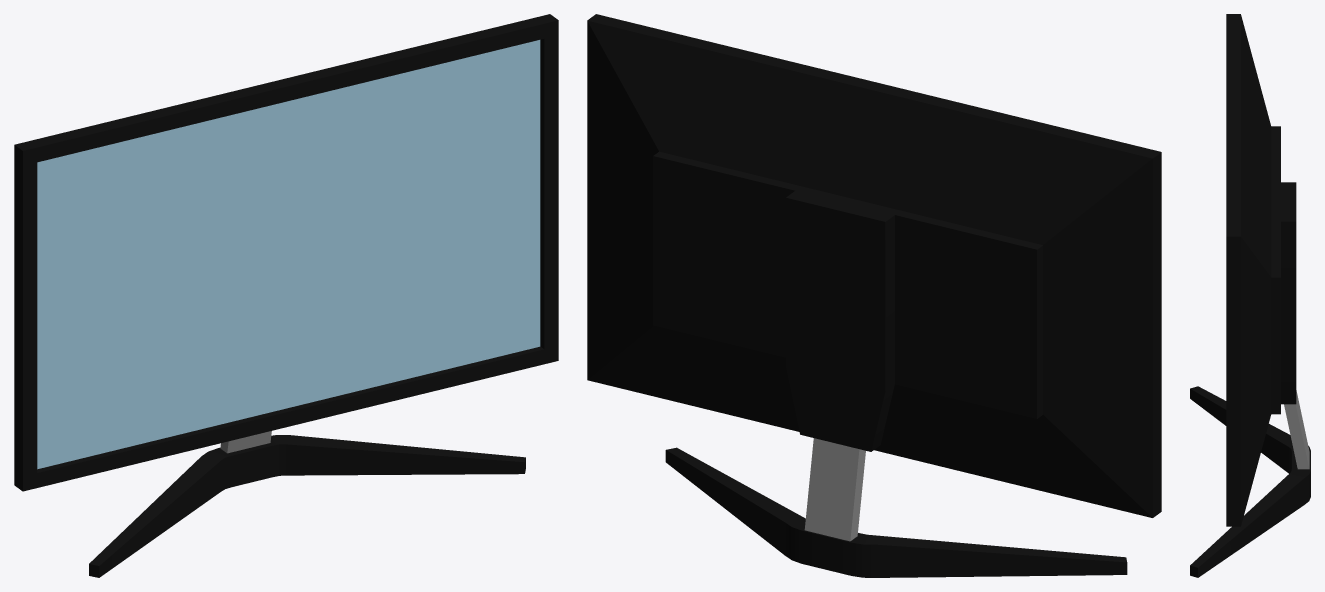
The model's file is EN_Monitor.002_V01.fbx.
3 renders of one model, left to right at view 1: azimuth 30°, elevation 25°; view 2: azimuth 150°, elevation 25°; view 3: azimuth 270°, elevation 25°, orthographic. The views are drawn at different scales.
Parts seen in each view (by area): view 1: GEO_Monitor.002; view 2: GEO_Monitor.002; view 3: GEO_Monitor.002.
Boxes of the visible parts, <box> form: GEO_Monitor.002: <box>14,14,558,577</box>; GEO_Monitor.002: <box>587,14,1161,577</box>; GEO_Monitor.002: <box>1190,14,1310,577</box>.
Bounding box in the file's own units: 68.44 × 51.85 × 15.71.
Materials: 1 (1 with a texture image).
